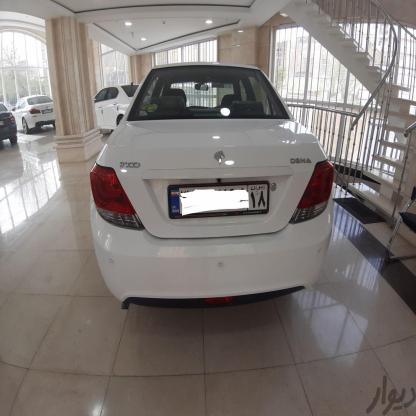Car: (84, 54, 332, 314), (82, 78, 138, 130), (18, 93, 56, 136), (0, 99, 23, 148)
